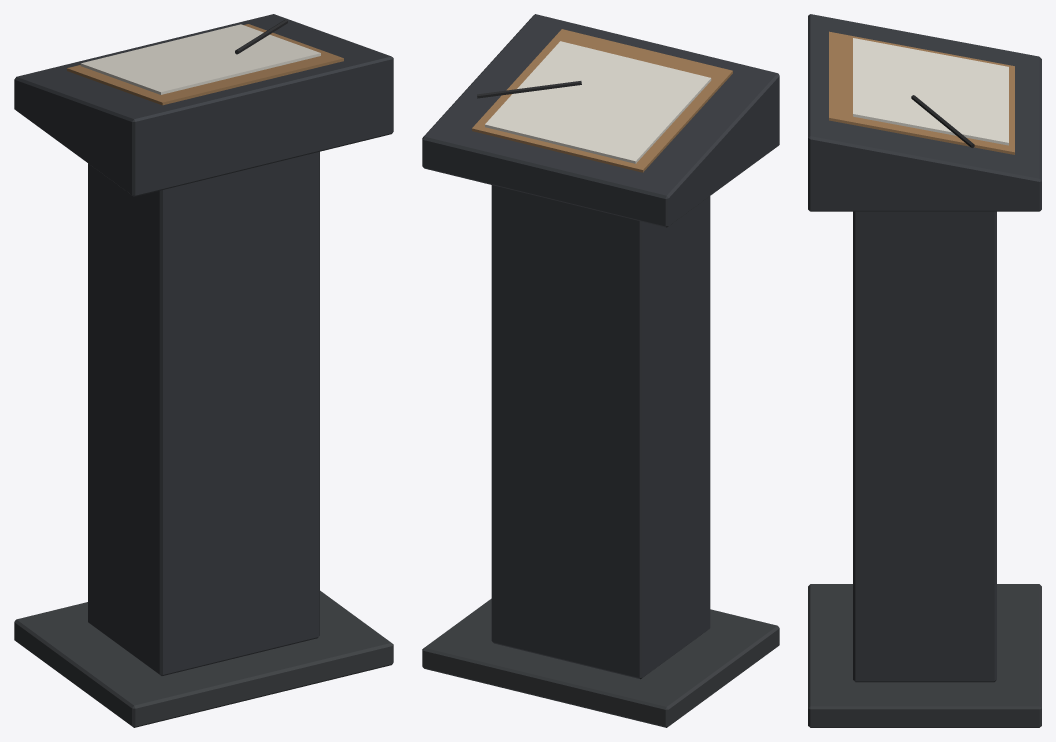
File: prop_lectern_signin.glb
3 renders of one model, left to right at view 1: azimuth 30°, elevation 25°; view 2: azimuth 150°, elevation 25°; view 3: azimuth 270°, elevation 25°, orthographic. The views are drawn at different scales.
Visible parts, largest first — view 1: Lectern; view 2: Lectern; view 3: Lectern.
Boxes of the visible parts, left/top/right/bottom form: Lectern: left=14, top=14, right=393, bottom=727; Lectern: left=422, top=14, right=779, bottom=727; Lectern: left=808, top=14, right=1041, bottom=727.
Size of what is drawn, in the model's own units: 0.49 by 1.09 by 0.39.
